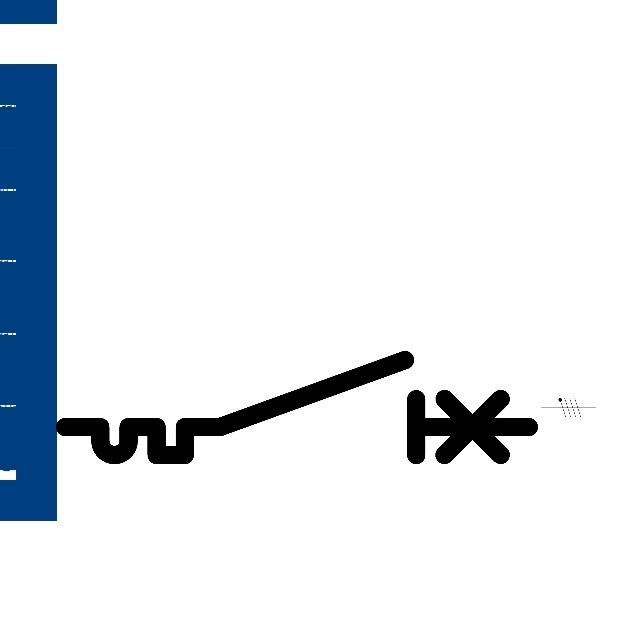interruptor_termomagnetico: (53, 348, 540, 467)
